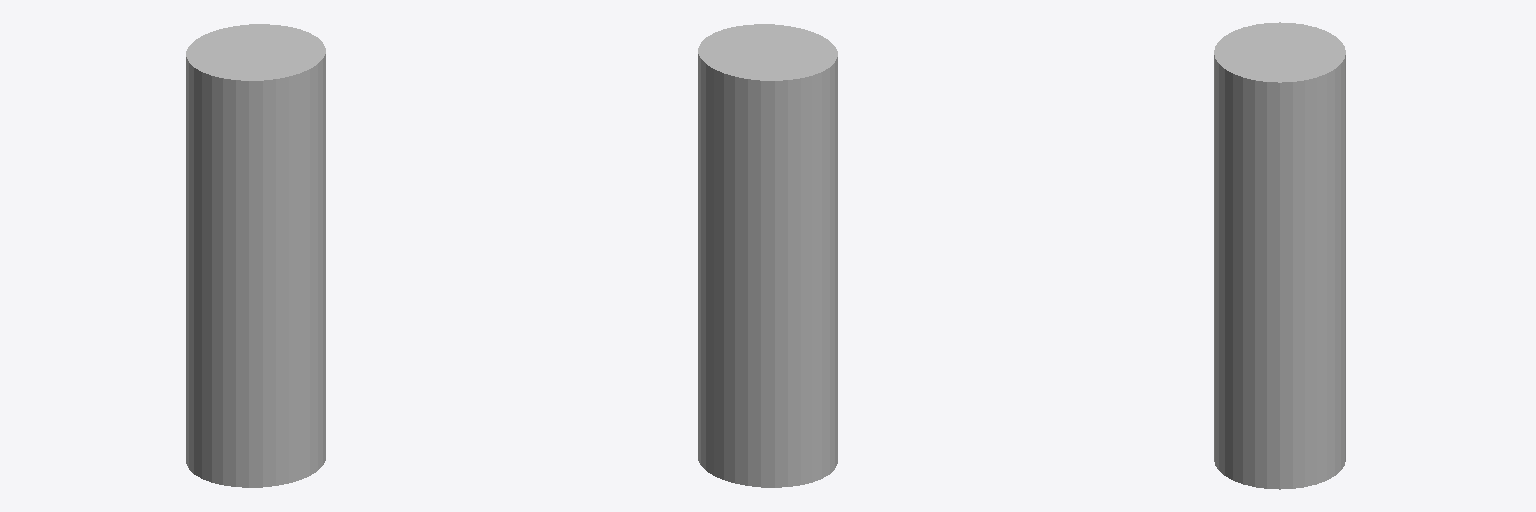
The model's file is rock.obj.
3 renders of one model, left to right at view 1: azimuth 30°, elevation 25°; view 2: azimuth 150°, elevation 25°; view 3: azimuth 270°, elevation 25°, orthographic.
Parts seen in each view (by area): view 1: RainCylinder_Cylinder; view 2: RainCylinder_Cylinder; view 3: RainCylinder_Cylinder.
Boxes of the visible parts, box(x1,y1,x2,y2) form: RainCylinder_Cylinder: box(186, 24, 325, 487); RainCylinder_Cylinder: box(698, 24, 837, 487); RainCylinder_Cylinder: box(1214, 22, 1345, 489).
Size of the model in its own units: 0.5507 by 1.74 by 0.5103.